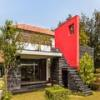stairs: (69, 68, 94, 98)
